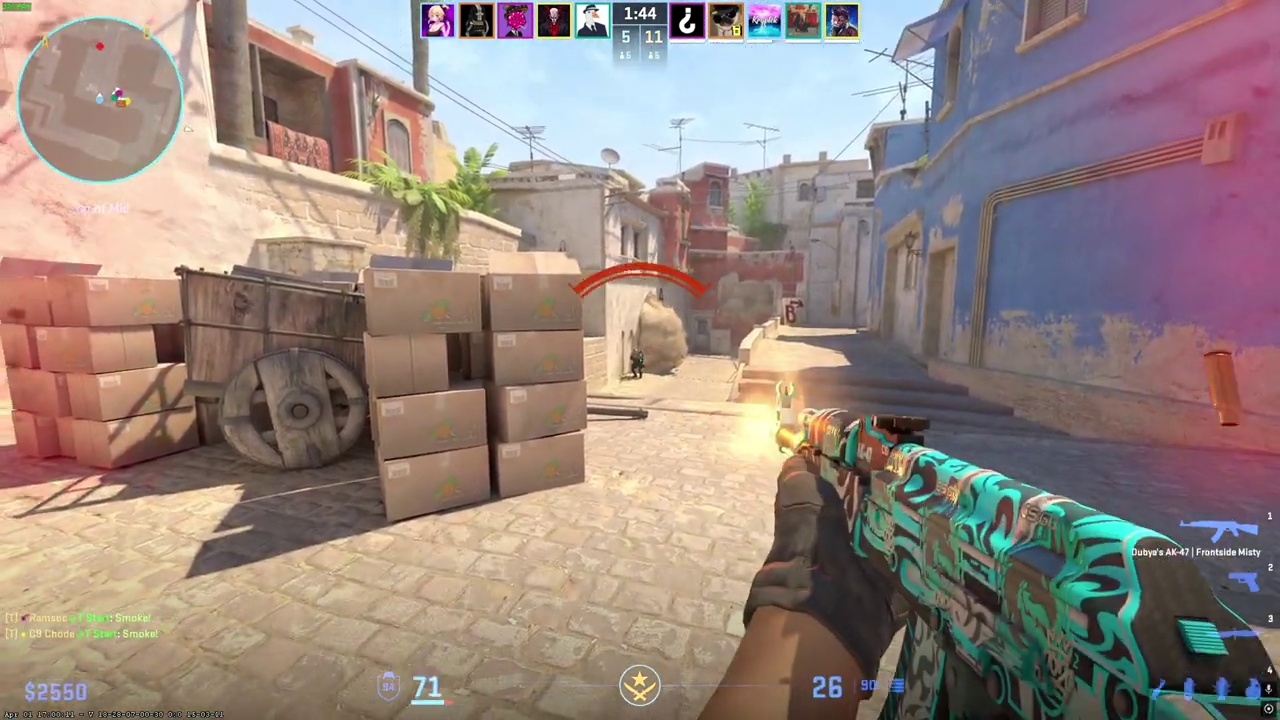CT: (629, 349, 644, 379)
